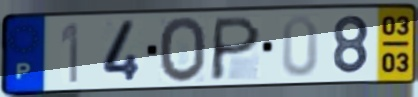0: (279, 13, 321, 80)
1: (59, 20, 81, 87)
4: (99, 18, 146, 87)
8: (331, 14, 372, 76)
O: (156, 15, 209, 85)
P: (207, 14, 264, 83)
